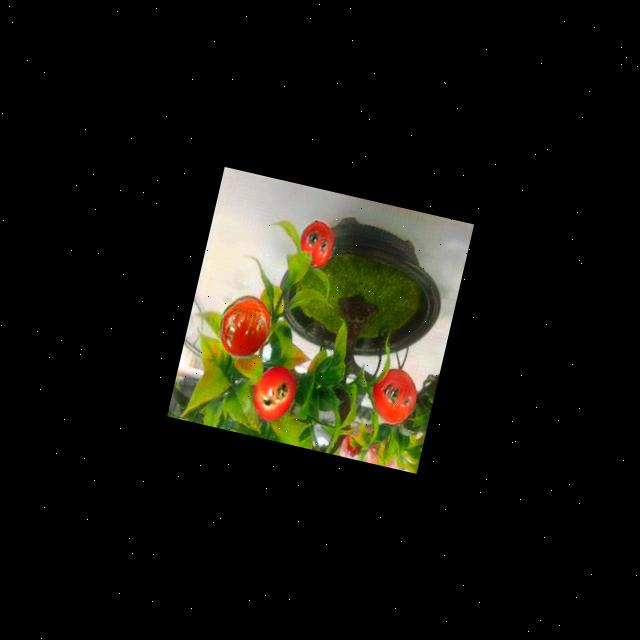tomato: (214, 289, 276, 362), (247, 360, 297, 426), (368, 366, 420, 428), (295, 220, 339, 269)
